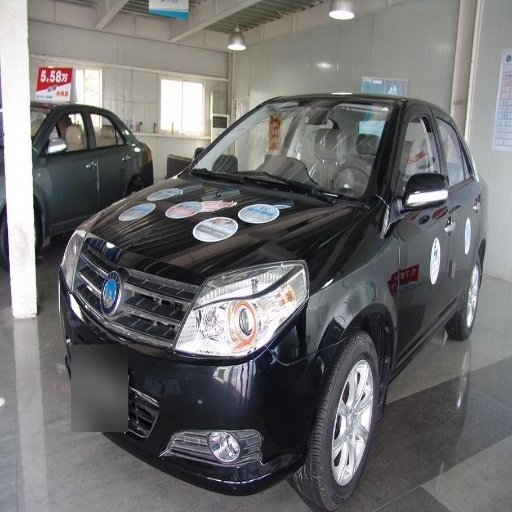front_bumper: (93, 302, 327, 491), (69, 229, 156, 318)
front_glass: (190, 97, 395, 201)
front_left_door: (394, 105, 448, 354)
